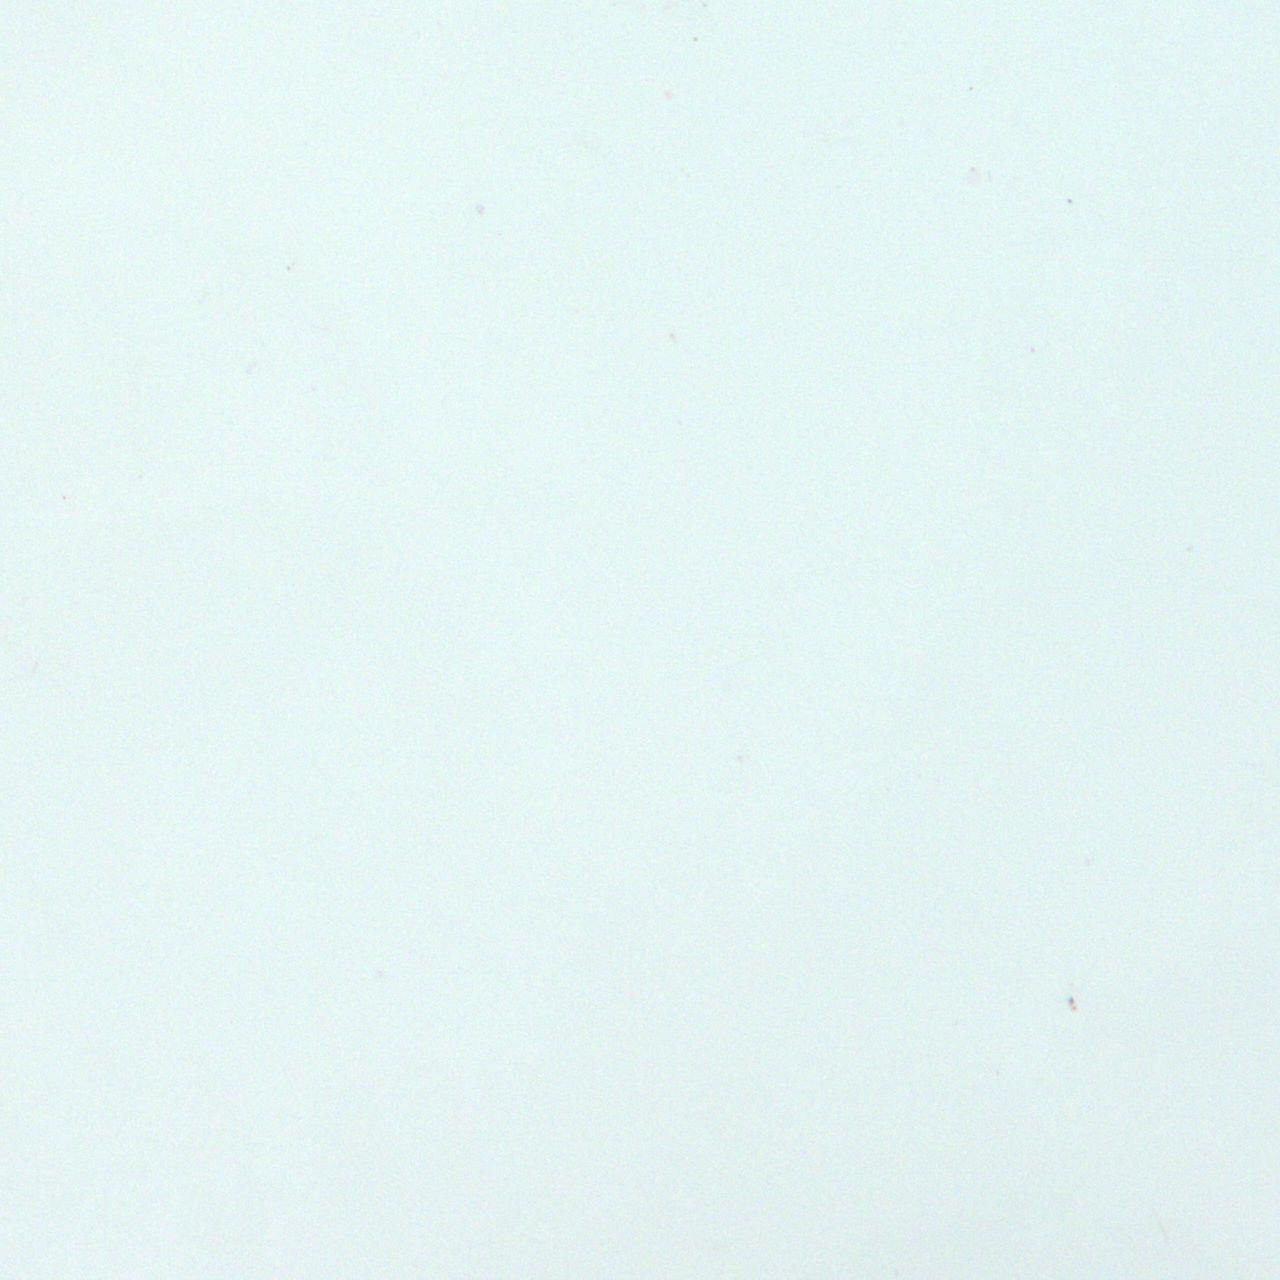dust: (1067, 998, 1076, 1012)
